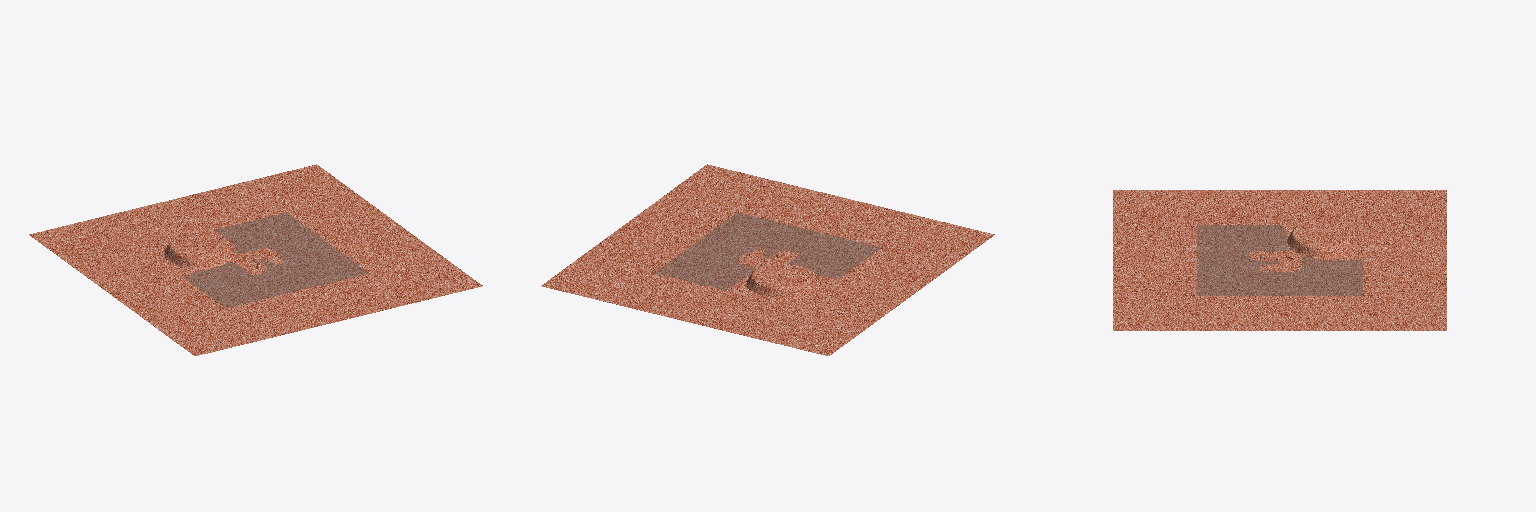
3 renders of one model, left to right at view 1: azimuth 30°, elevation 25°; view 2: azimuth 150°, elevation 25°; view 3: azimuth 270°, elevation 25°, orthographic.
Parts seen in each view (by area): view 1: Landscape_Plane; view 2: Landscape_Plane; view 3: Landscape_Plane.
Boxes of the visible parts, x1,y1,x2,y2 form: Landscape_Plane: [29, 164, 482, 355]; Landscape_Plane: [541, 164, 994, 355]; Landscape_Plane: [1113, 190, 1446, 330].
Size of the model in its own units: 2000 by 58.73 by 2000.
3 materials, 2 textured.